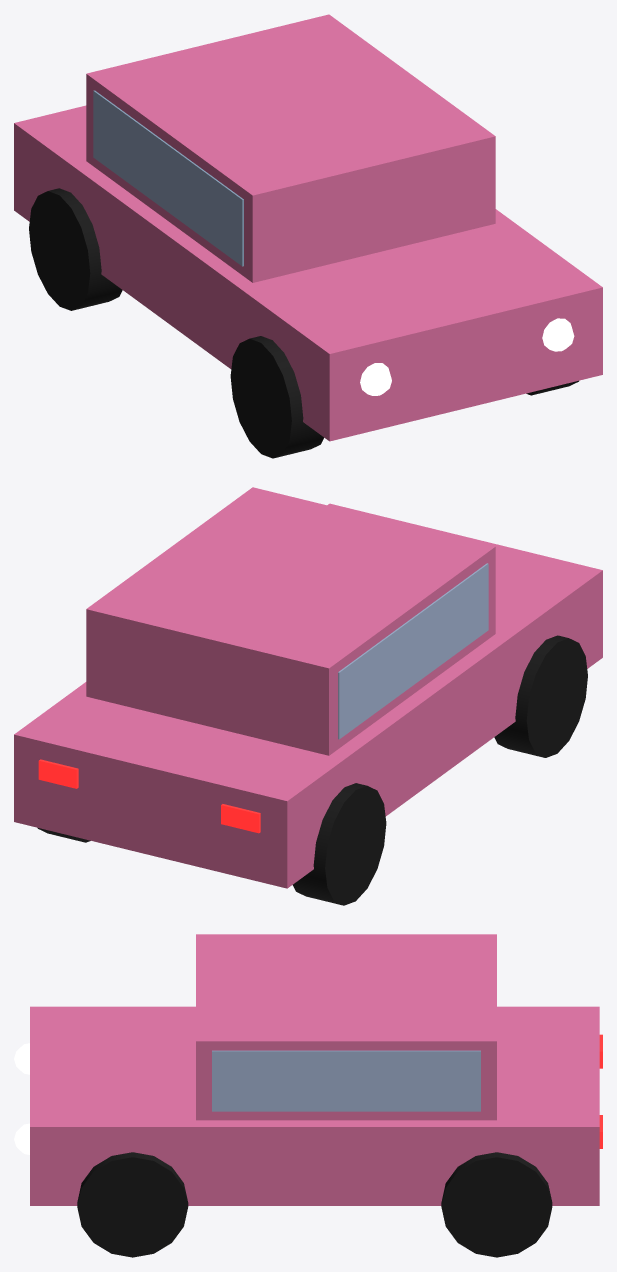
File: car.glb
3 renders of one model, top to bottom at view 1: azimuth 30°, elevation 25°; view 2: azimuth 150°, elevation 25°; view 3: azimuth 270°, elevation 25°, orthographic. The views are drawn at different scales.
Visible parts, largest first — view 1: car; view 2: car; view 3: car.
Part boxes in pixels (left/top/right/bottom): car: left=14, top=14, right=602, bottom=458; car: left=14, top=487, right=602, bottom=905; car: left=14, top=934, right=602, bottom=1257.
Bounding box in the file's own units: 1.95 × 1.42 × 3.72.
